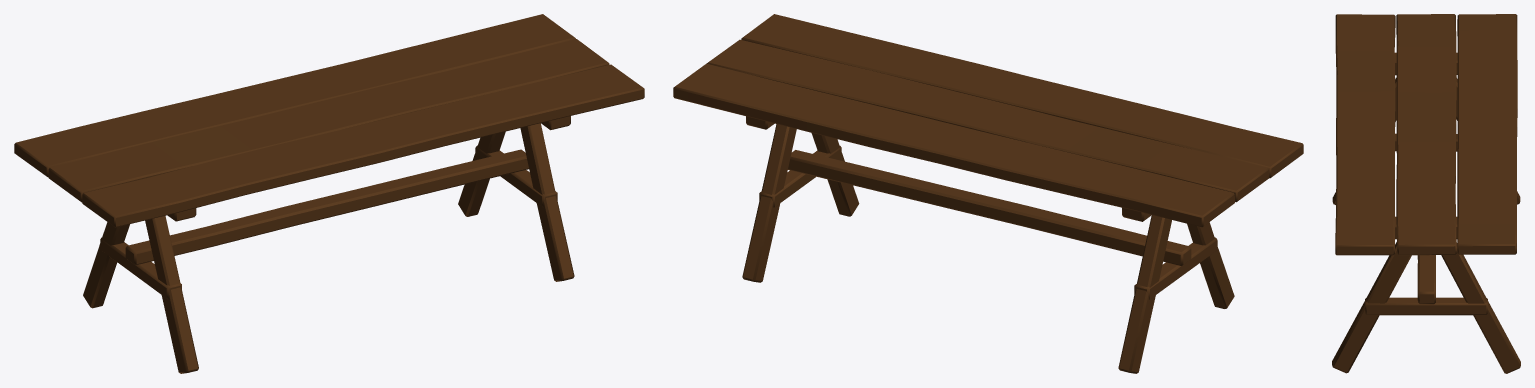
File: tisch_lang.glb
3 renders of one model, left to right at view 1: azimuth 30°, elevation 25°; view 2: azimuth 150°, elevation 25°; view 3: azimuth 270°, elevation 25°, orthographic. The views are drawn at different scales.
Visible parts, largest first — view 1: tisch_lang; view 2: tisch_lang; view 3: tisch_lang.
Boxes of the visible parts, bbox=[...] form: tisch_lang: bbox=[14, 14, 644, 373]; tisch_lang: bbox=[673, 14, 1303, 373]; tisch_lang: bbox=[1332, 14, 1520, 373].
Size of the model in its own units: 2.4 by 0.779 by 0.8268.
